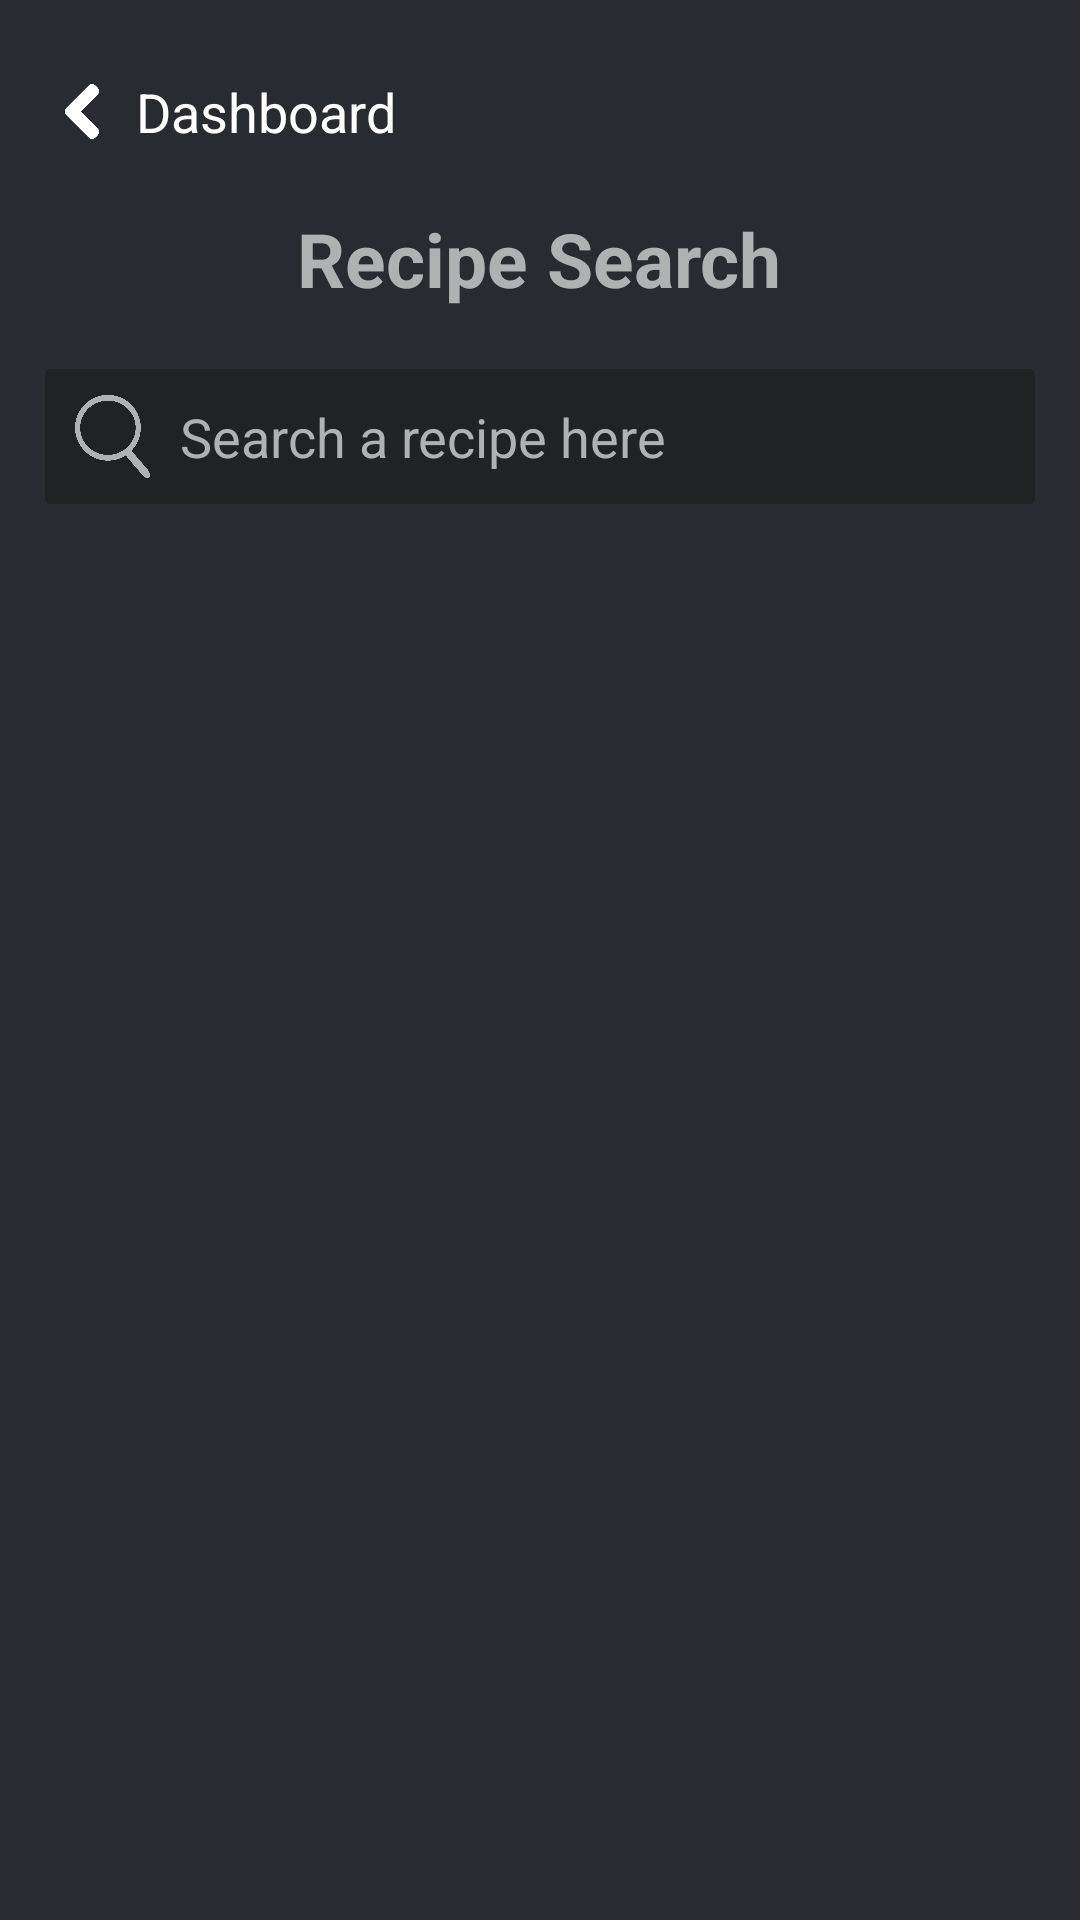

Icons on this 1080px x 1920px Android screen, each with the point to tap as [x,y]:
back: [82,111]
